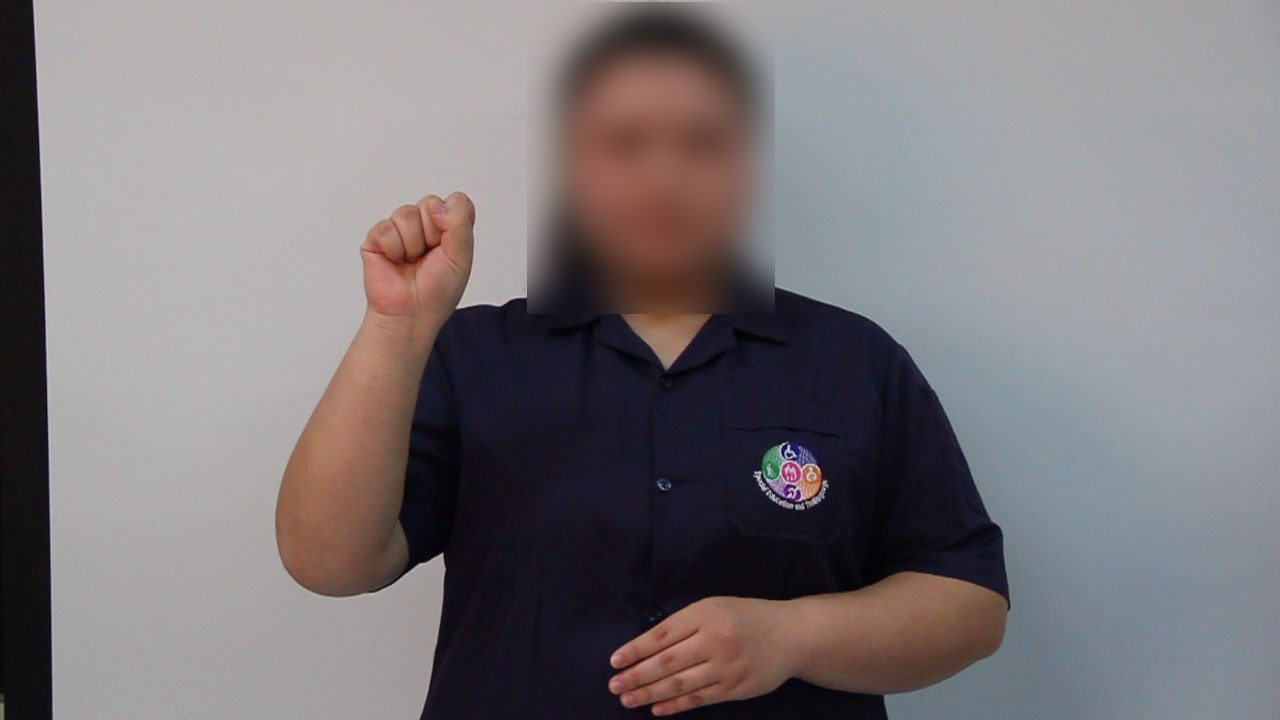sor: (349, 178, 491, 329)
